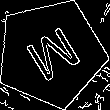M_SE: (18, 20, 84, 87)
